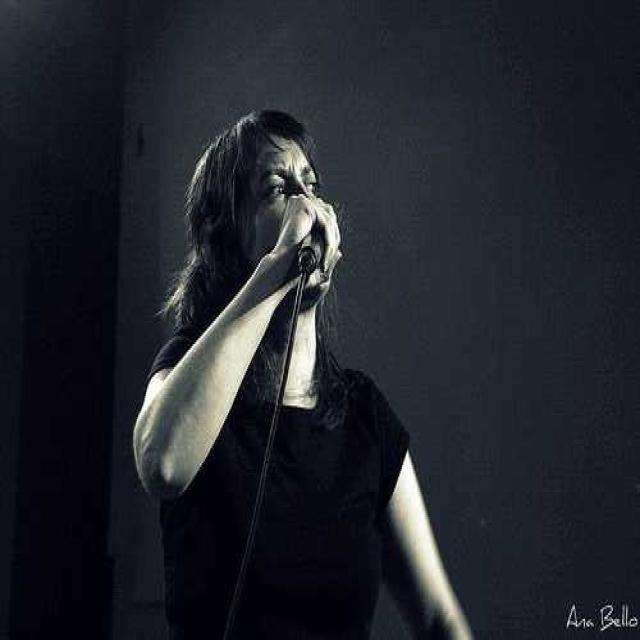microphone: (294, 192, 352, 277)
